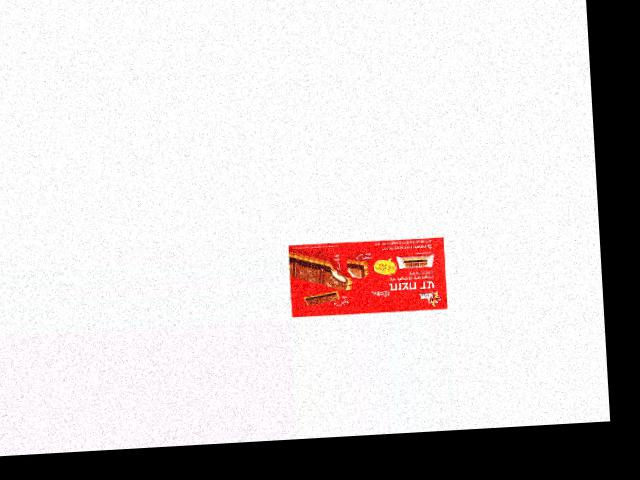chocolate: (287, 235, 450, 318)
